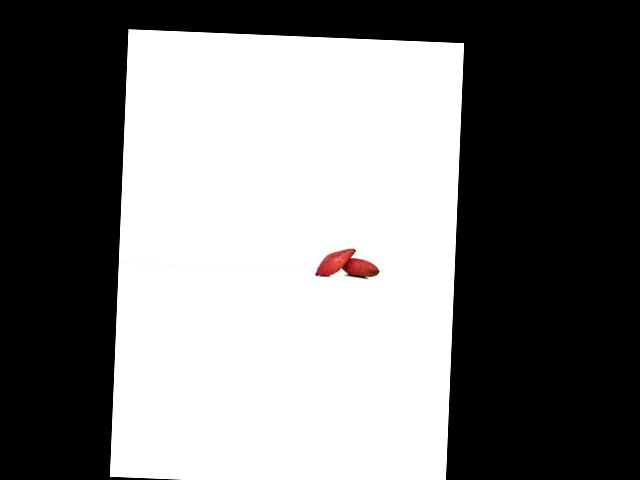sweet_potato: (338, 255, 381, 277)
